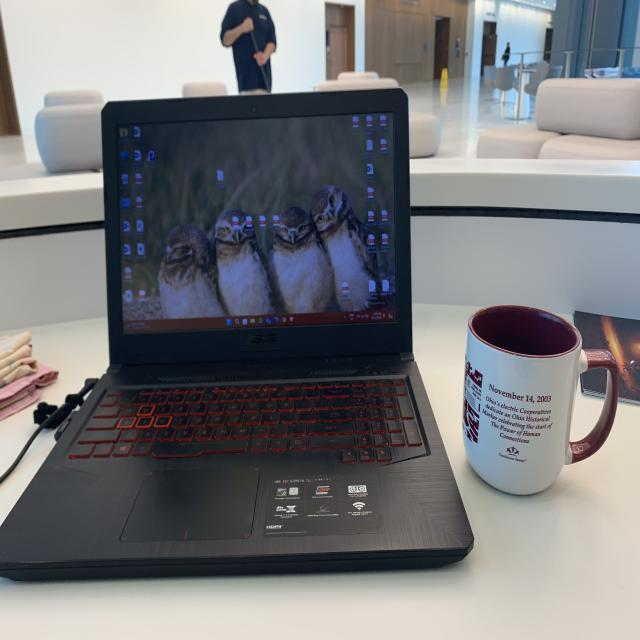Cup: (460, 296, 624, 500)
